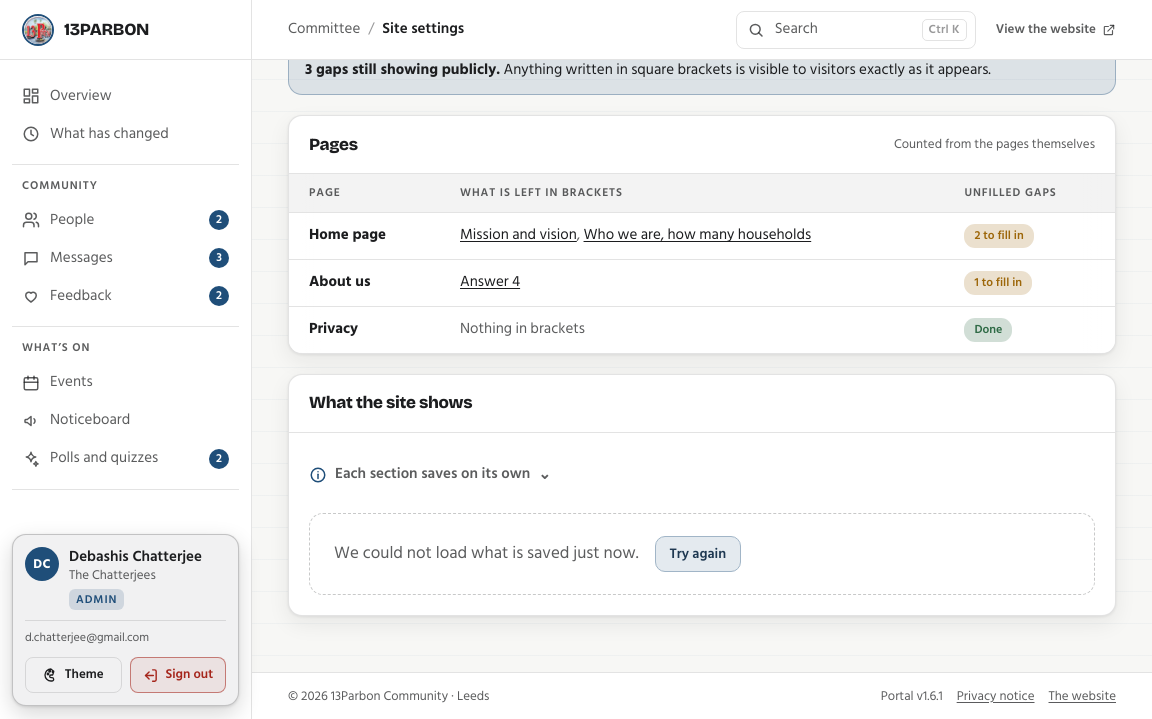
it: when the committee screens cannot load › the content screen opens the settings form once a retry reads them
The image size is (1152, 719).
(page scrolled)
Click the button "Try again" at [698, 554], box 654,536 -> 741,572
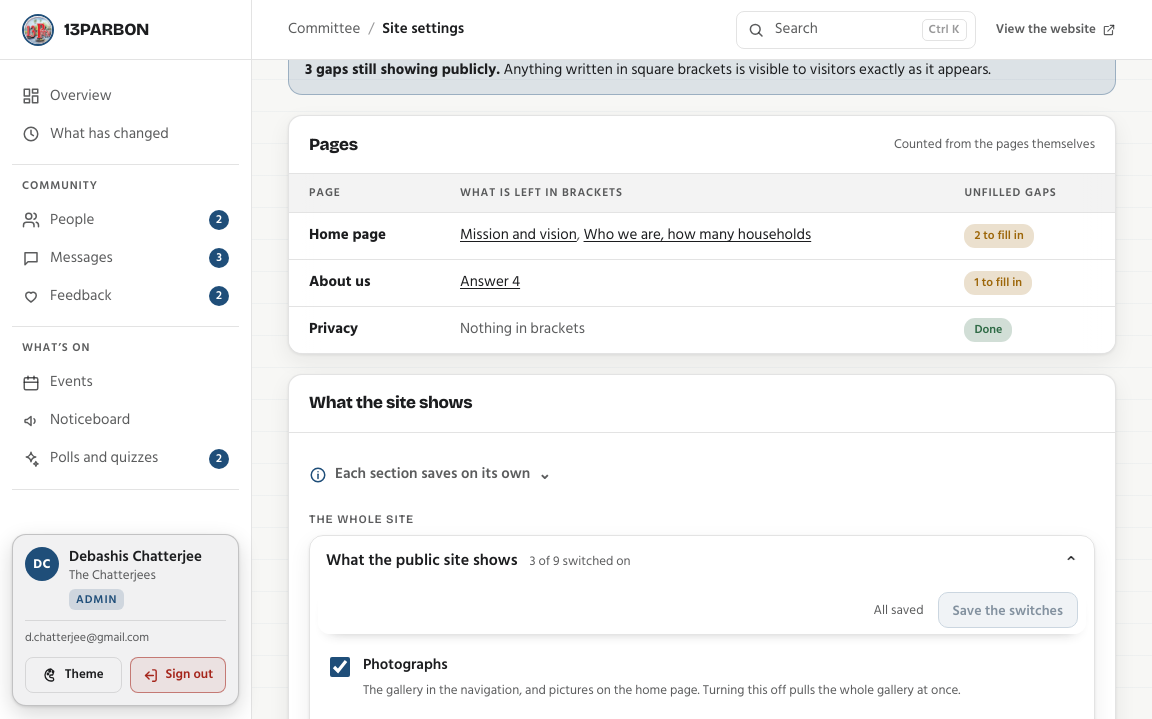
Now the text "We could not load what is saved just now." is gone
